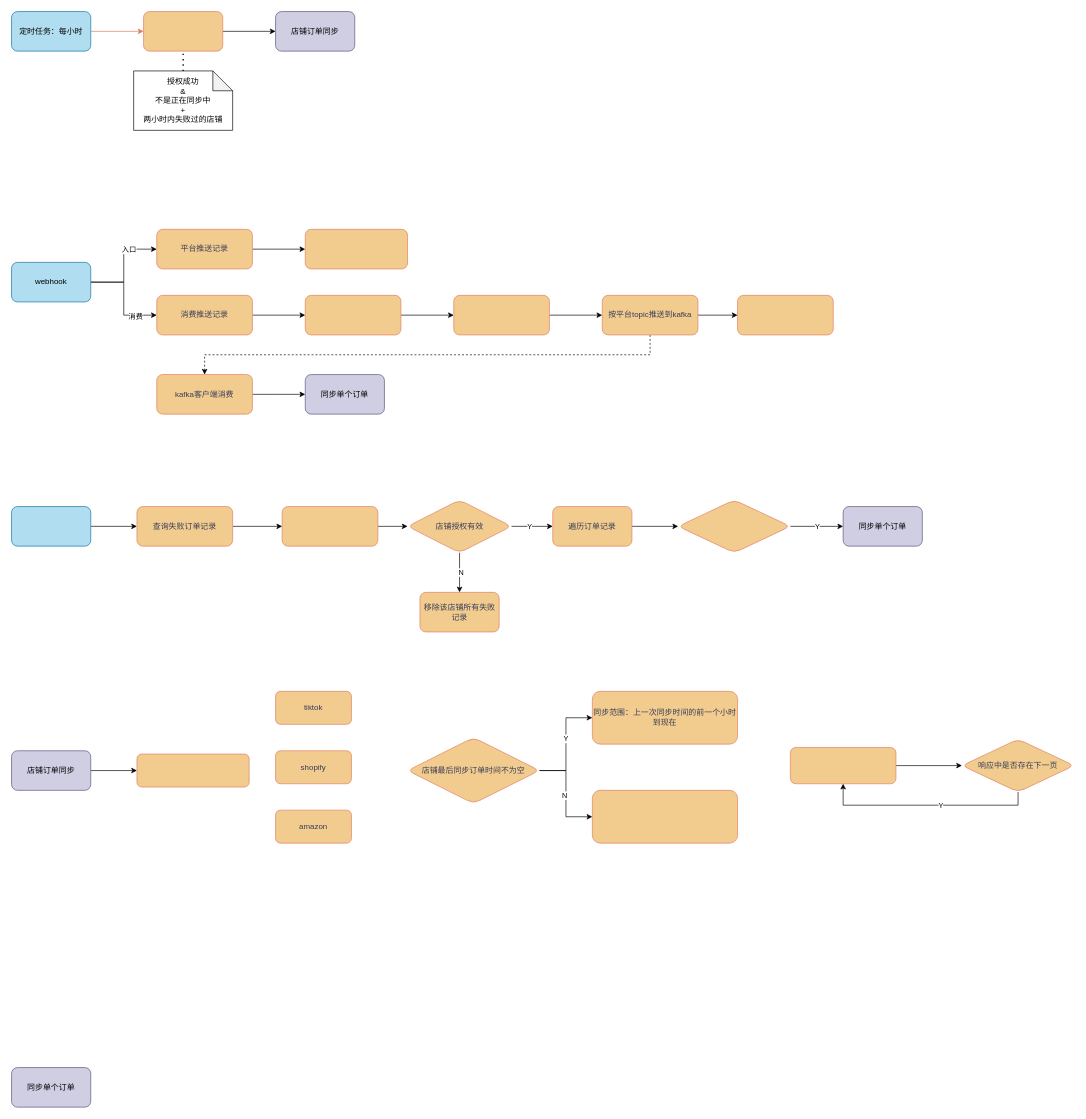
This 1086x1119 diagram has some shape labels left out. Each missing label, with the box of its shape:
分平台保存至不同的记录表: (305, 229, 408, 269)
删除webhook记录: (737, 295, 833, 335)
同步范围：一个月前到现在: (592, 790, 738, 843)
失败重试: (11, 506, 91, 546)
定时任务：每两分钟: (305, 295, 401, 335)
更新店铺同步状态为同步中: (136, 753, 249, 787)
查询店铺: (143, 11, 223, 51)
获取店铺: (281, 506, 378, 546)
订单失败次数 < 3: (677, 499, 790, 553)
请求平台订单列表接口: (790, 747, 896, 784)
读取5分钟前的记录: (453, 295, 549, 335)
